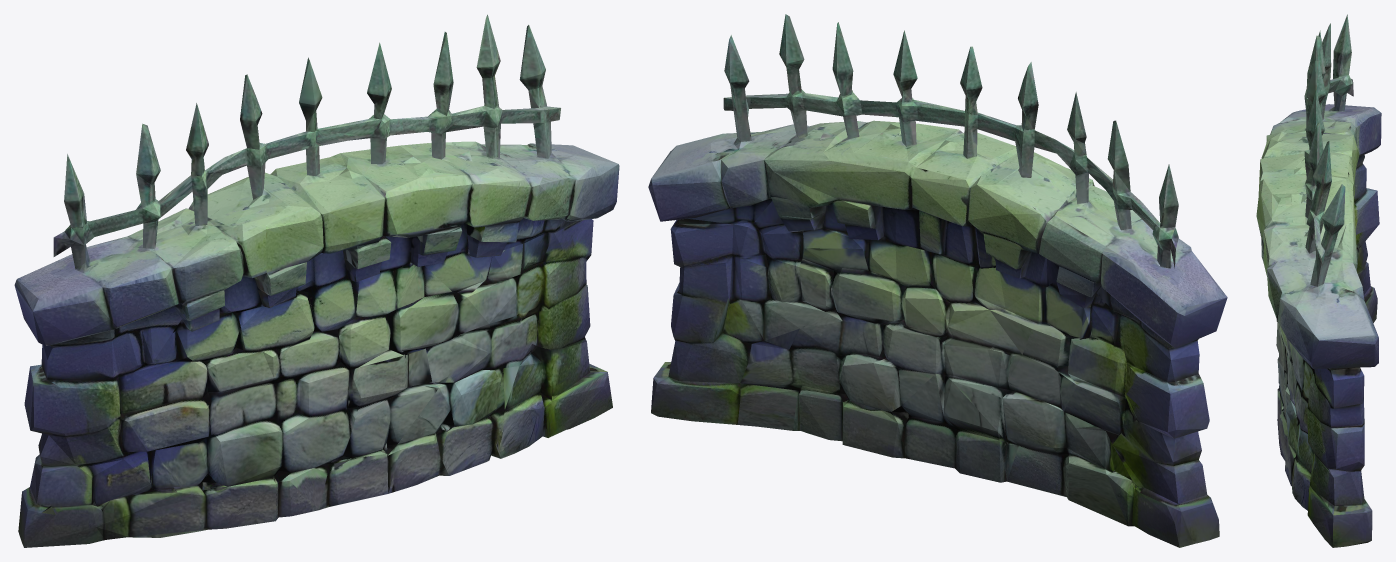
Rendered from wall mesh.fbx.
3 renders of one model, left to right at view 1: azimuth 30°, elevation 25°; view 2: azimuth 150°, elevation 25°; view 3: azimuth 270°, elevation 25°, orthographic. The views are drawn at different scales.
Visible parts, largest first — view 1: textured_mesh.obj; view 2: textured_mesh.obj; view 3: textured_mesh.obj.
Part boxes in pixels (x1=…): textured_mesh.obj: x1=14, y1=14, x2=619, y2=547; textured_mesh.obj: x1=648, y1=14, x2=1227, y2=547; textured_mesh.obj: x1=1256, y1=14, x2=1381, y2=547.
Bounding box in the file's own units: 199 × 141 × 44.15.
